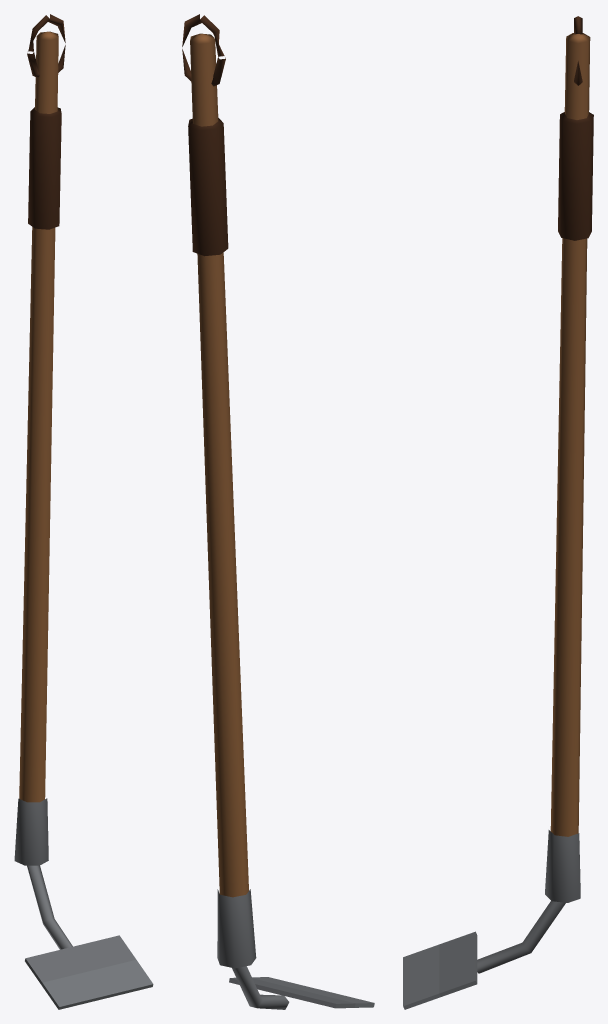
The model's file is prop_garden_hoe_a.glb.
The picture shows the model from 3 angles, left to right: view 1: azimuth 30°, elevation 25°; view 2: azimuth 150°, elevation 25°; view 3: azimuth 270°, elevation 25°; orthographic projection. The views are drawn at different scales.
Parts seen in each view (by area): view 1: prop_garden_hoe_a_mesh; view 2: prop_garden_hoe_a_mesh; view 3: prop_garden_hoe_a_mesh.
Part boxes in pixels (<box>): prop_garden_hoe_a_mesh: <box>14,14,153,1009</box>; prop_garden_hoe_a_mesh: <box>182,14,374,1009</box>; prop_garden_hoe_a_mesh: <box>403,16,593,1009</box>.
Size of the model in its own units: 0.16 by 1.49 by 0.2626.
